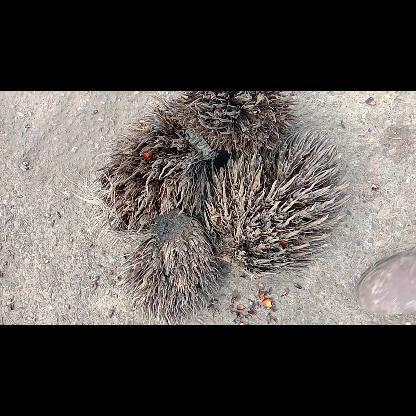Janjang kosong: (205, 130, 349, 276), (74, 107, 218, 245), (122, 208, 219, 324), (174, 90, 298, 154)
